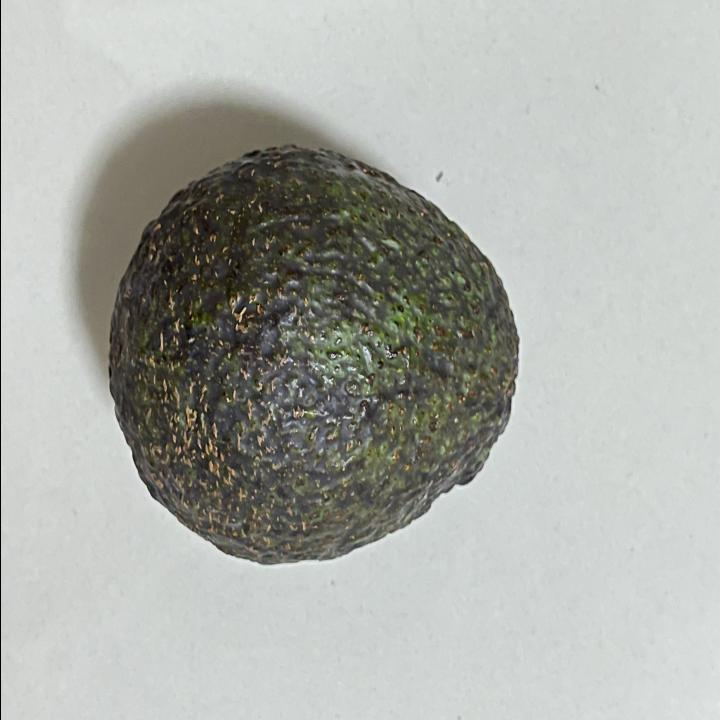Level2: (103, 138, 527, 572)
